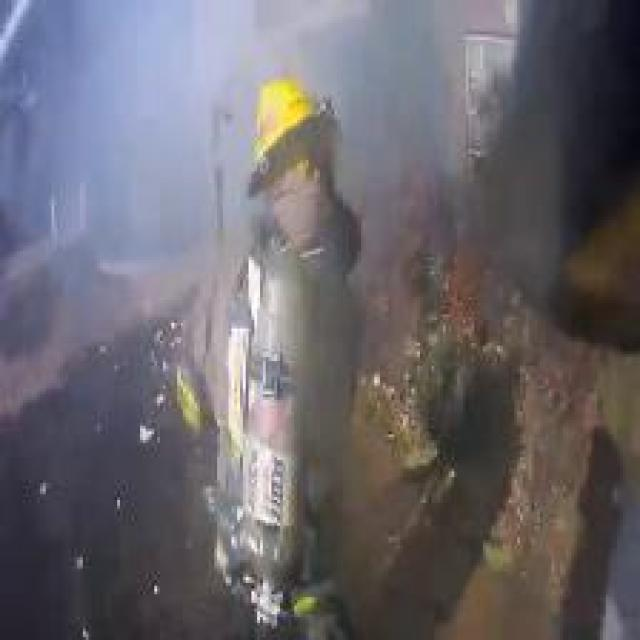other: (235, 78, 328, 170)
